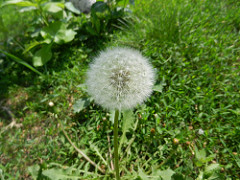dandelion white: (84, 45, 160, 113)
